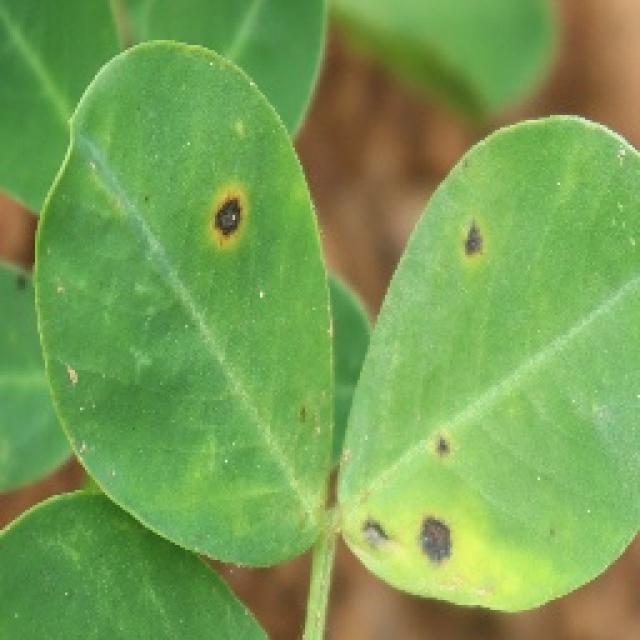Early_leaf_spot: (342, 485, 452, 595), (179, 160, 259, 279), (431, 212, 518, 288)
